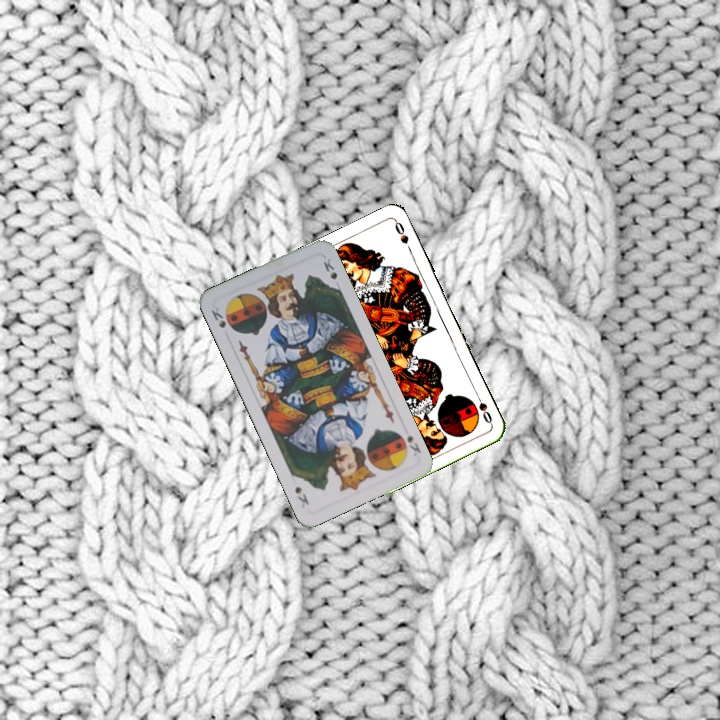SK: (207, 303, 228, 331), (403, 431, 424, 459)
SO: (471, 388, 495, 426)
